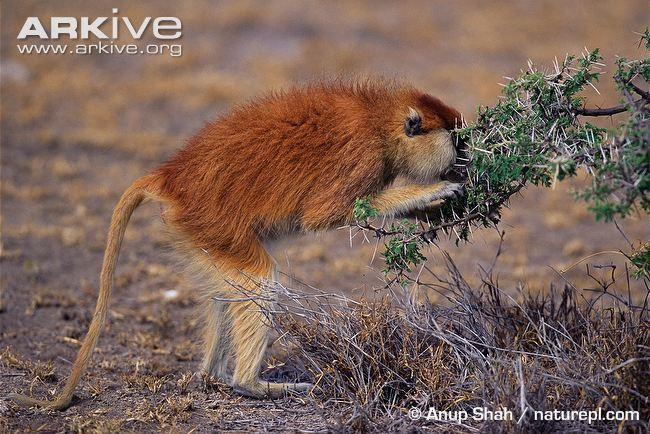monkey: (87, 80, 502, 396)
